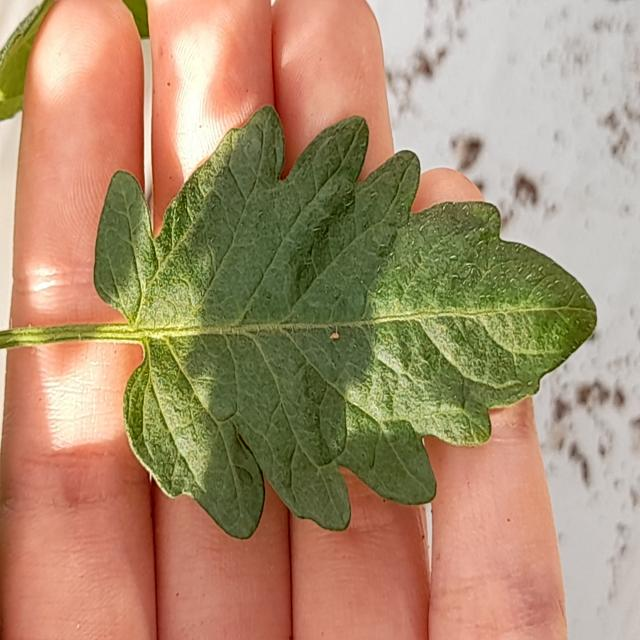Healthy Leaf: (94, 106, 598, 540)
